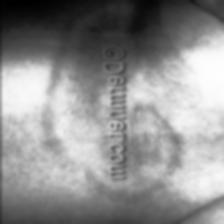Unclassified: (56, 18, 178, 185)
